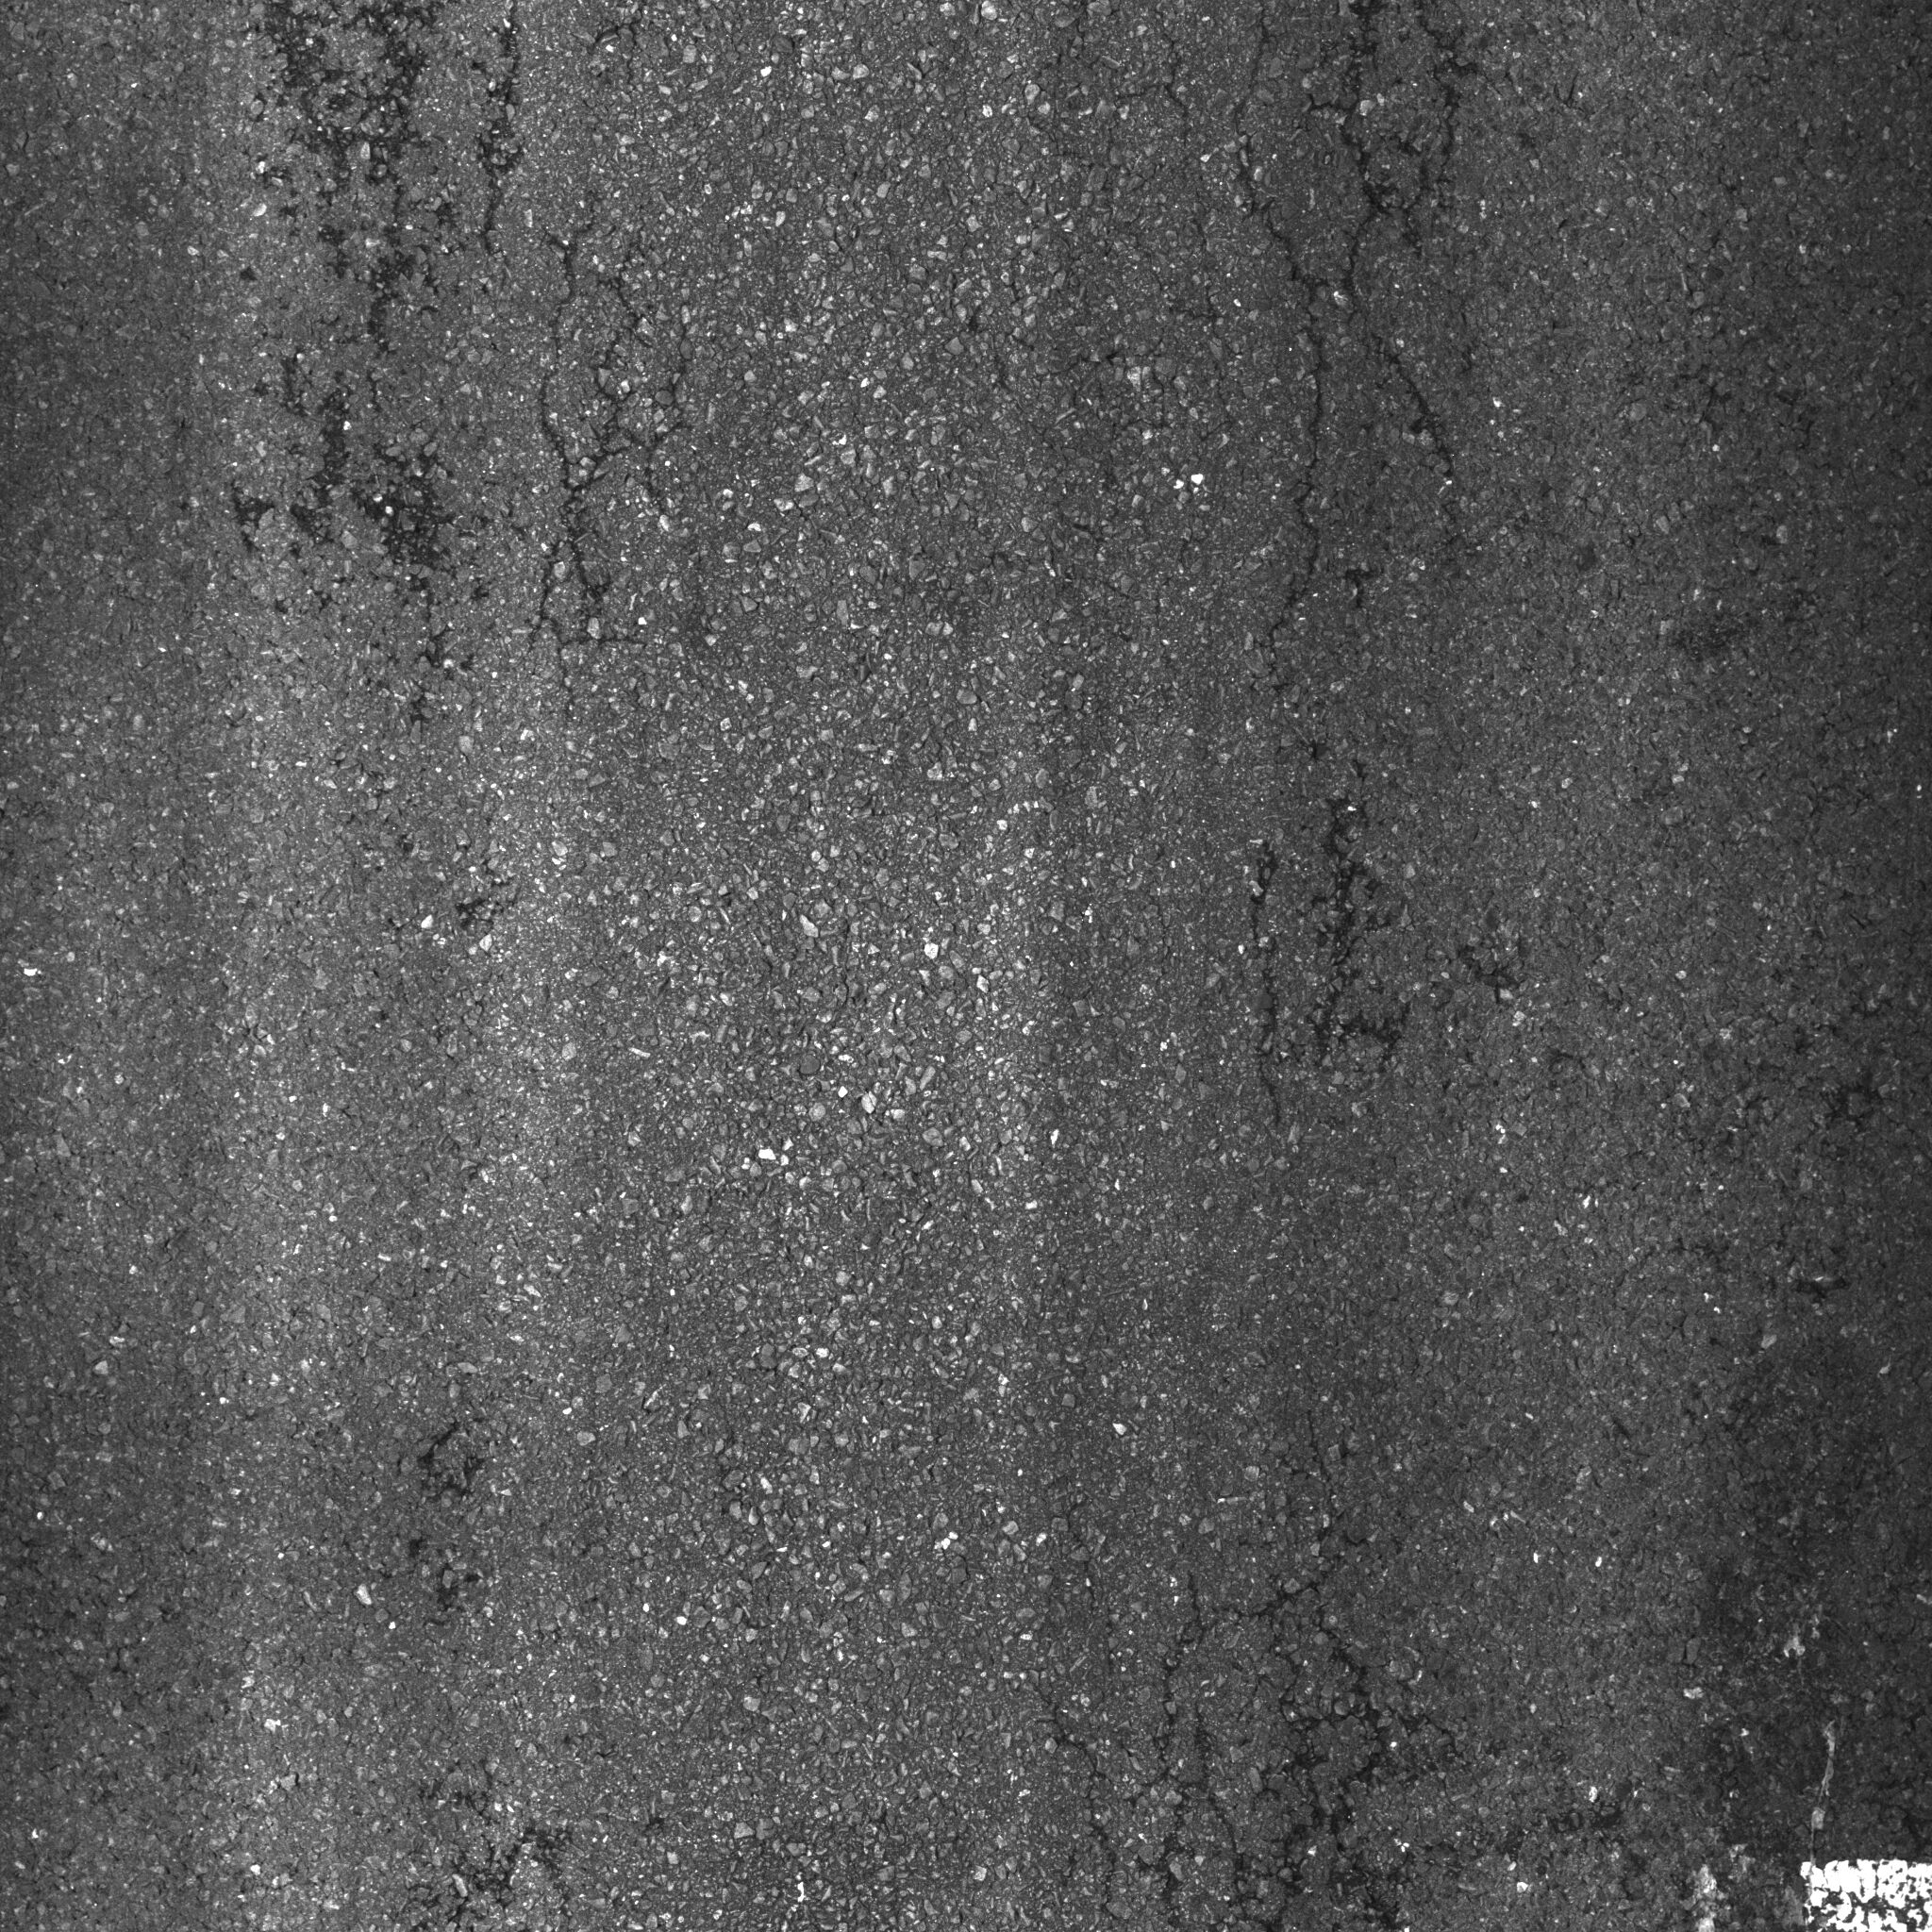alligator: (1154, 5, 1667, 1198), (1026, 1361, 1849, 1932), (242, 2, 741, 745)
